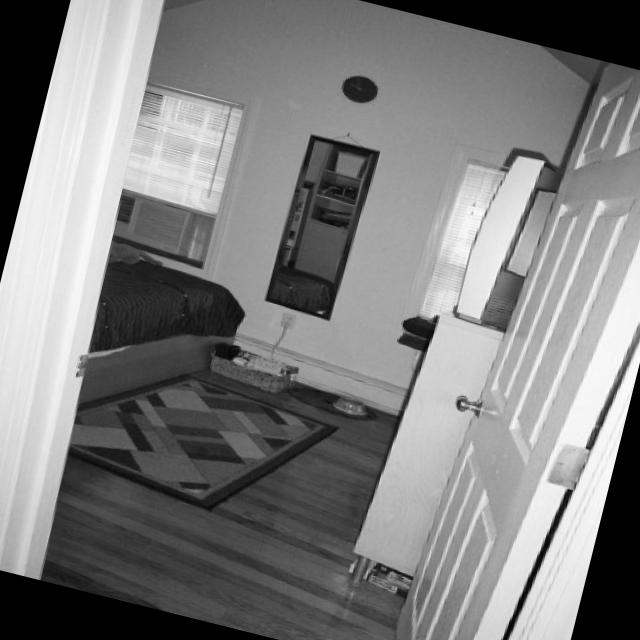2001: (116, 82, 245, 267)
2006: (421, 162, 509, 317)
basket crop: (213, 345, 302, 391)
bed spread: (81, 241, 247, 407)
ceiling beam: (351, 0, 607, 86)
door bars: (394, 74, 640, 640)
floor -X: (44, 304, 484, 640)
furniture crop: (348, 314, 508, 584)
handle bar: (455, 395, 486, 416)
hinge: (549, 442, 590, 490)
mirror crop: (267, 134, 380, 319)
rug -partially obscured-: (74, 372, 338, 505)
tv camera: (457, 154, 564, 328)
wall clock: (105, 0, 597, 449), (513, 339, 640, 640)
